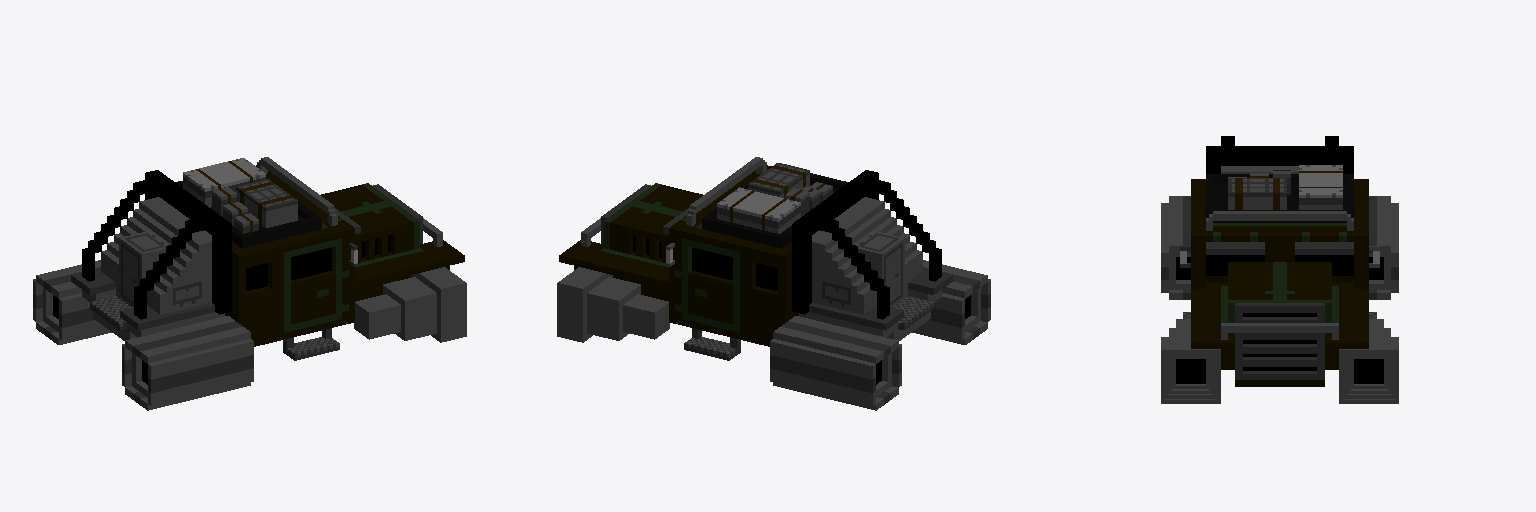
3 views of the same model, side by side, from view 1: azimuth 30°, elevation 25°; view 2: azimuth 150°, elevation 25°; view 3: azimuth 270°, elevation 25° (orthographic).
Parts seen in each view (by area): view 1: object 1; view 2: object 1; view 3: object 1.
Part boxes in pixels (left/top/right/bottom): object 1: left=33, top=157, right=466, bottom=410; object 1: left=557, top=157, right=990, bottom=410; object 1: left=1161, top=136, right=1398, bottom=403.
Bounding box in the file's own units: 10.2 × 4.4 × 6.4.
1 materials, 1 textured.